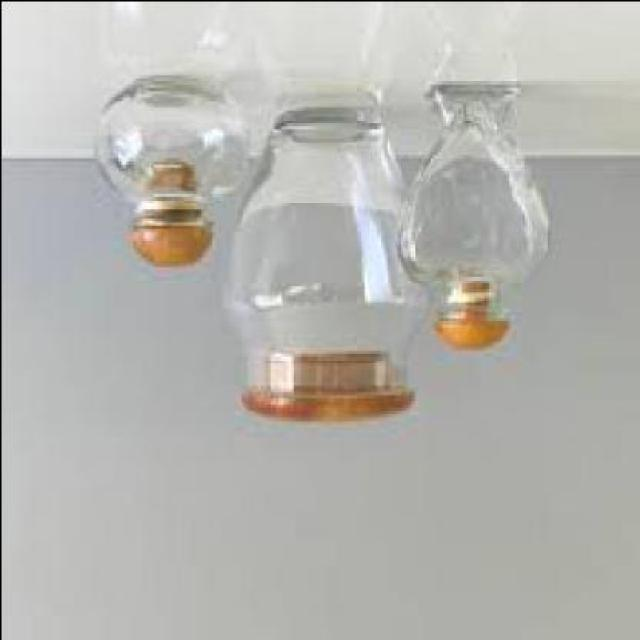GLASS: (225, 105, 427, 401), (397, 83, 551, 323), (96, 77, 255, 228)
